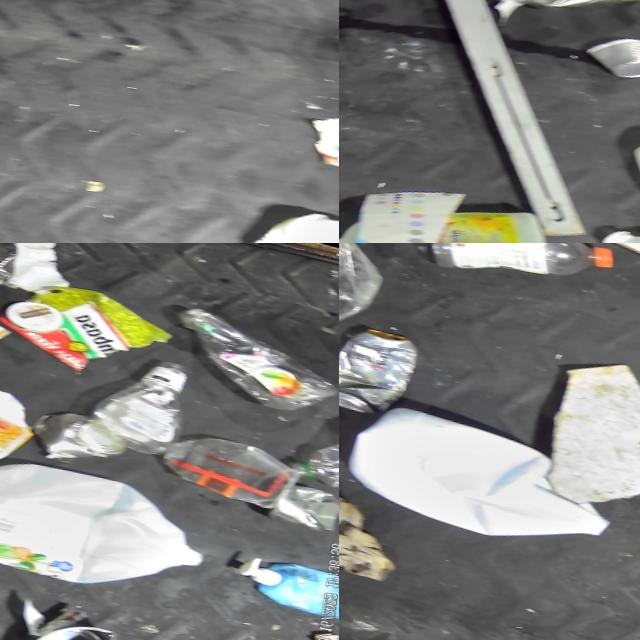can: (339, 322, 419, 419), (32, 410, 123, 464), (573, 27, 640, 91), (15, 617, 119, 640)
milk_jug: (341, 400, 621, 553), (0, 452, 222, 605), (339, 180, 582, 243)
plastic_bottle: (174, 303, 339, 419), (422, 243, 620, 294), (100, 355, 187, 454)
